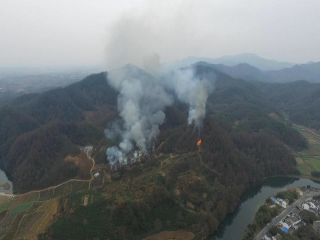smoke: (102, 16, 174, 173), (176, 69, 216, 135)
